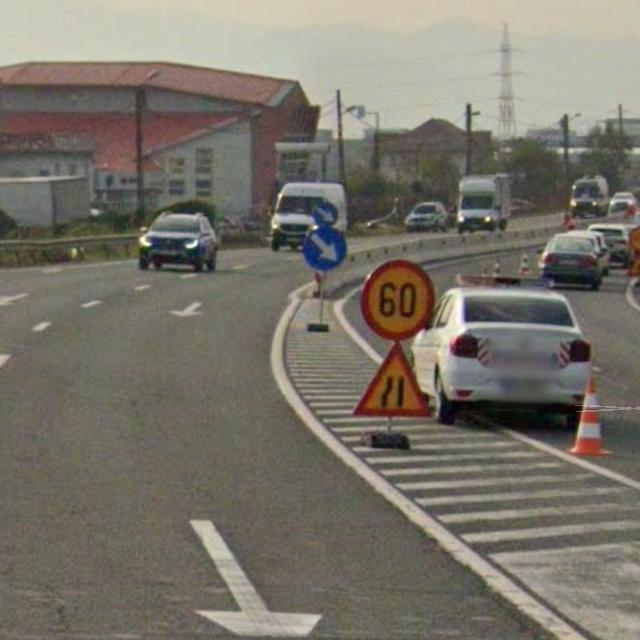forb_speed_over_60: (362, 260, 435, 343)
